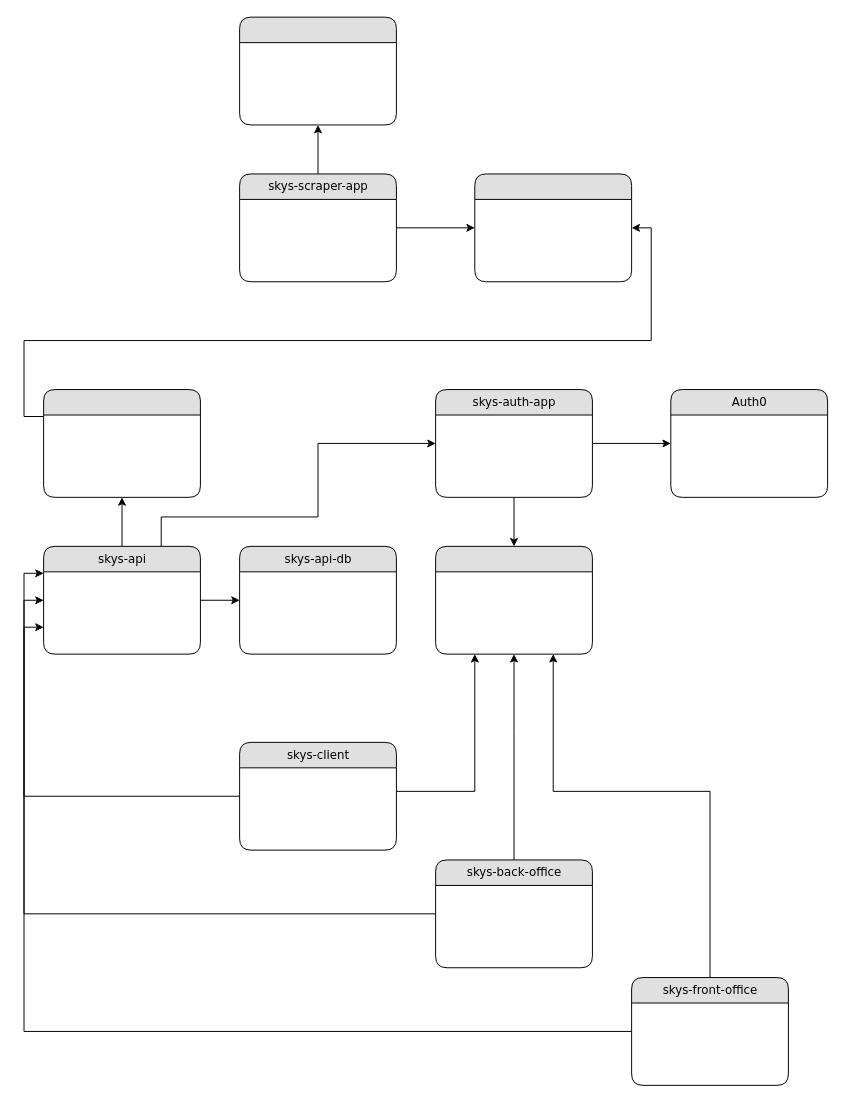
Image size: 845x1103. Some labels were removed from this diagram. The centre of each missing label's shape, as x and y in pixels:
organization: point (317, 70)
skys-client-auth-redis: point (513, 599)
skys-scraper-db: point (553, 227)
skys-search: point (121, 443)
